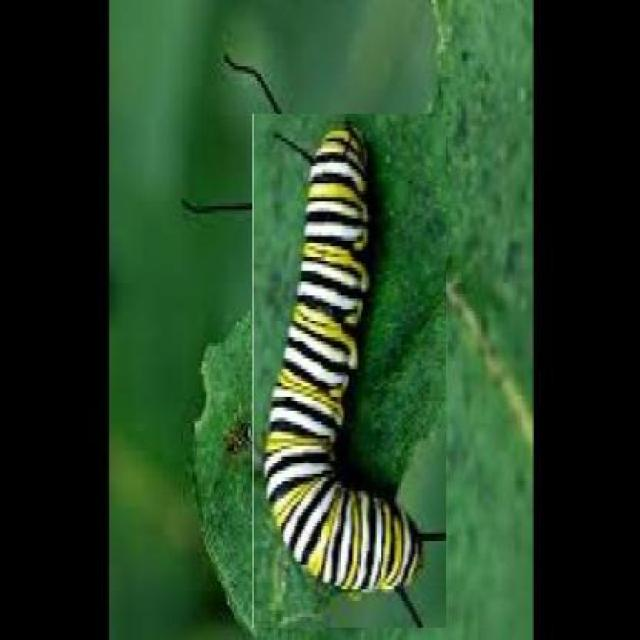Plaga: (253, 114, 449, 631)
